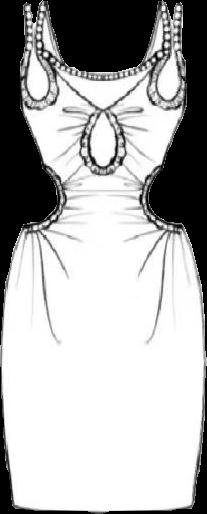Bodice: (20, 0, 186, 229)
Hemline: (13, 503, 194, 513)
Neckline: (40, 0, 169, 75), (51, 59, 156, 111)
Skirt: (1, 230, 205, 511)
